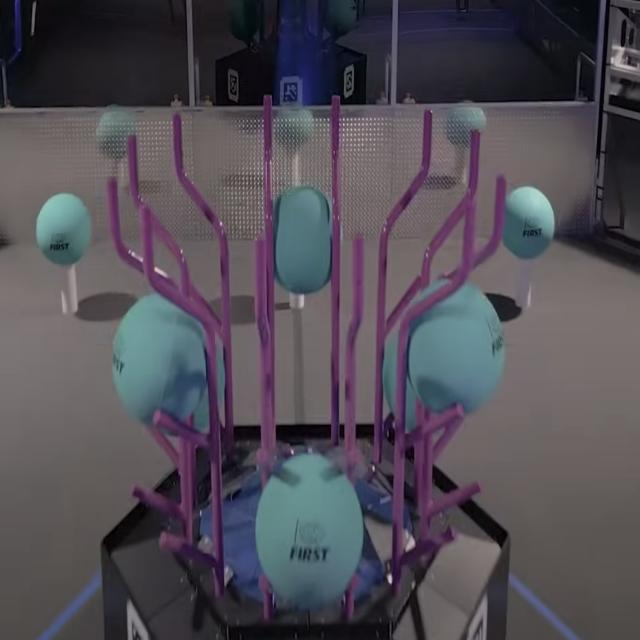Algae: (110, 290, 226, 436), (255, 453, 362, 610), (405, 278, 506, 416), (270, 188, 342, 293), (36, 192, 91, 266), (501, 187, 555, 260), (383, 330, 416, 430)
Coral: (59, 265, 79, 317), (518, 260, 534, 308), (290, 293, 304, 308)
Reef: (400, 402, 464, 454), (153, 410, 213, 459), (427, 481, 482, 523), (385, 276, 422, 333), (160, 533, 217, 564), (132, 484, 184, 517), (432, 415, 464, 462), (254, 235, 268, 330), (148, 428, 178, 467), (460, 198, 476, 271), (352, 236, 365, 322), (142, 204, 154, 279), (493, 176, 506, 245), (108, 178, 119, 252), (421, 110, 433, 176), (469, 130, 480, 197), (128, 135, 139, 199), (263, 94, 272, 166), (174, 114, 183, 174), (332, 96, 339, 164), (257, 448, 270, 471), (348, 450, 362, 471), (259, 575, 272, 597), (349, 573, 359, 597)
